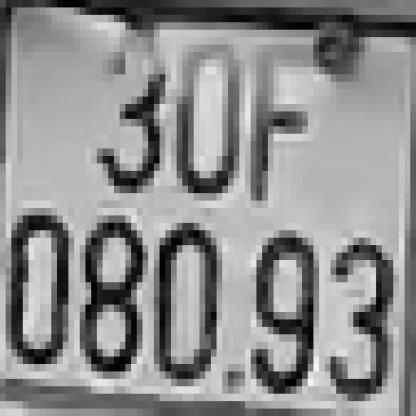0: (6, 208, 68, 364), (176, 44, 234, 200), (160, 223, 216, 379)
3: (97, 37, 165, 193), (325, 230, 387, 394)
8: (80, 216, 148, 372)
9: (245, 223, 313, 386)
F: (245, 44, 308, 200)
